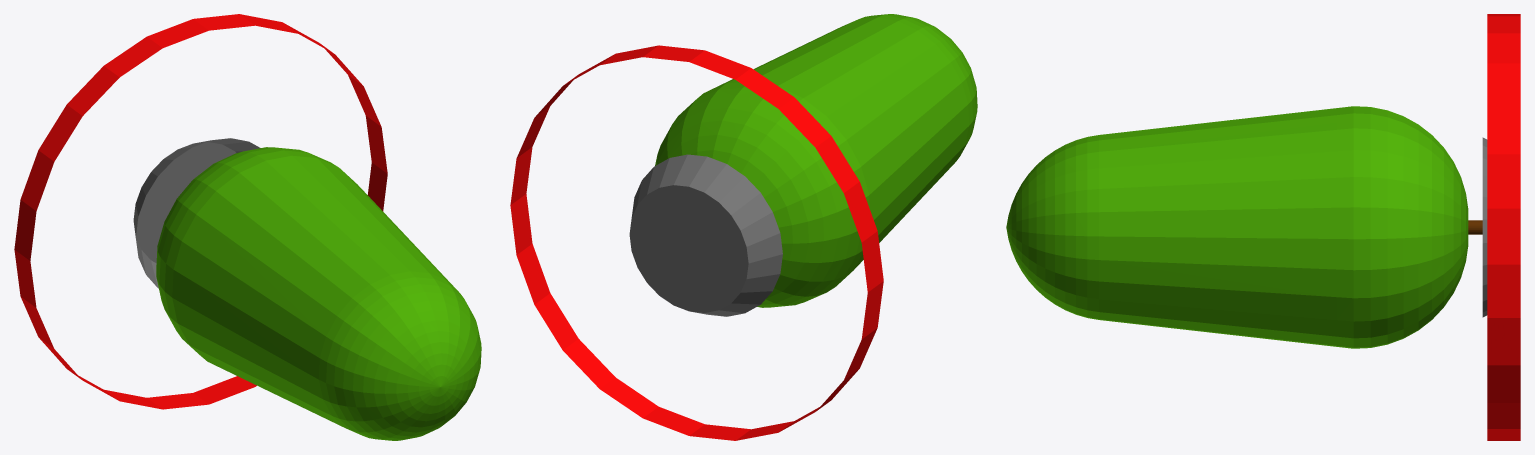
The model's file is HPSmr10m.obj.
The picture shows the model from 3 angles, left to right: view 1: azimuth 30°, elevation 25°; view 2: azimuth 150°, elevation 25°; view 3: azimuth 270°, elevation 25°; orthographic projection. The views are drawn at different scales.
Size of the model in its own units: 9 by 9 by 10.8.
